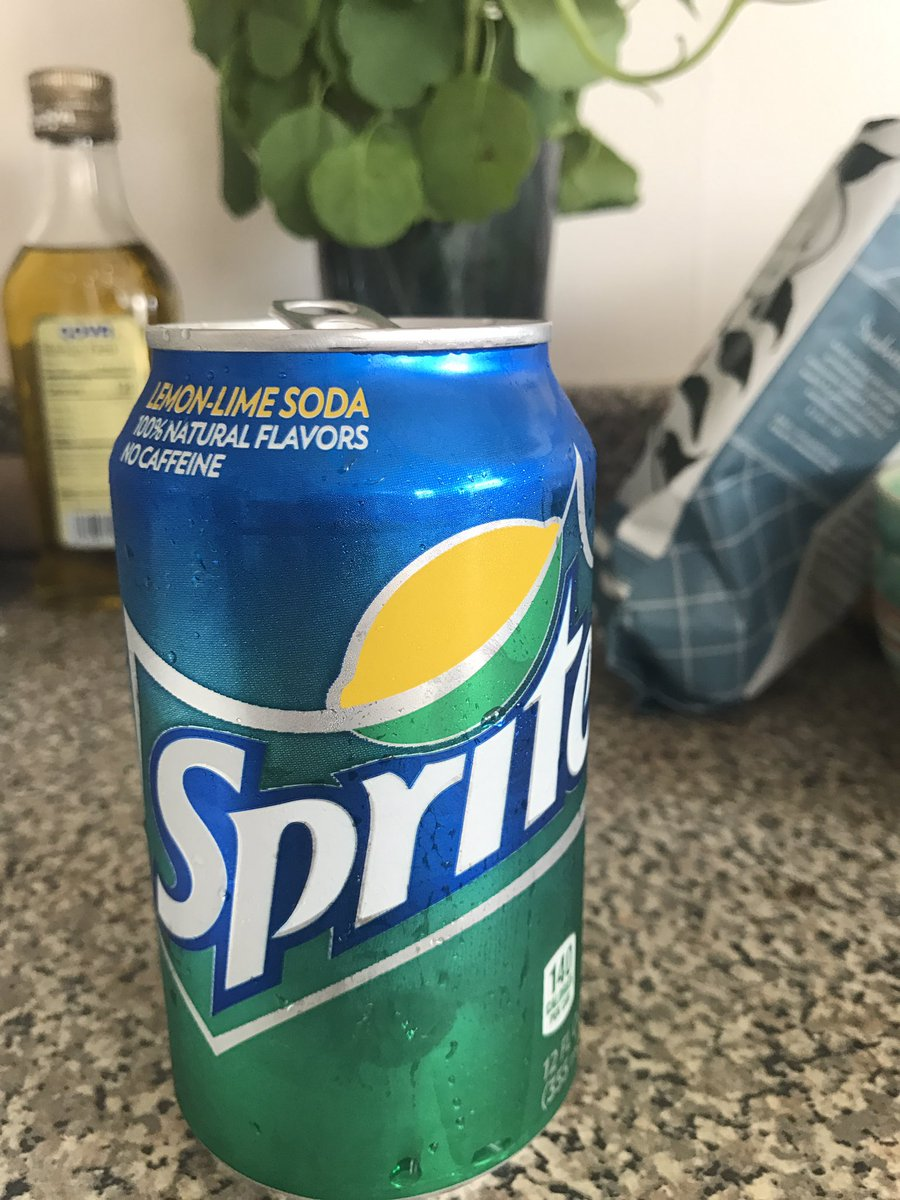sprite: (154, 578, 589, 979)
